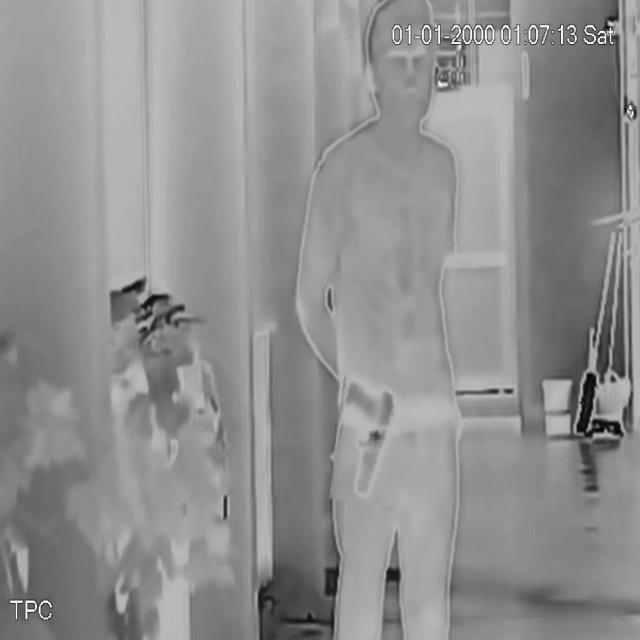Weapon: (334, 372, 404, 504)
